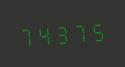five: (90, 18, 107, 43)
four: (36, 21, 53, 47)
seven: (72, 19, 89, 45), (18, 23, 35, 48)
three: (54, 20, 71, 46)
